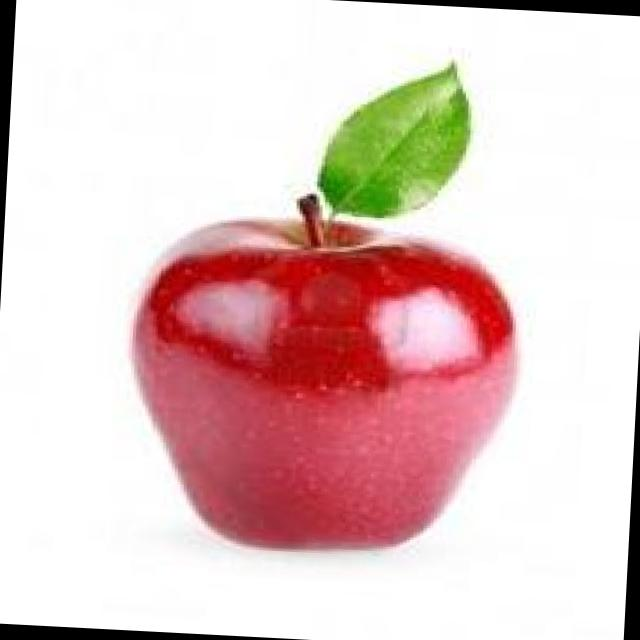Pisang: (118, 42, 540, 561)
